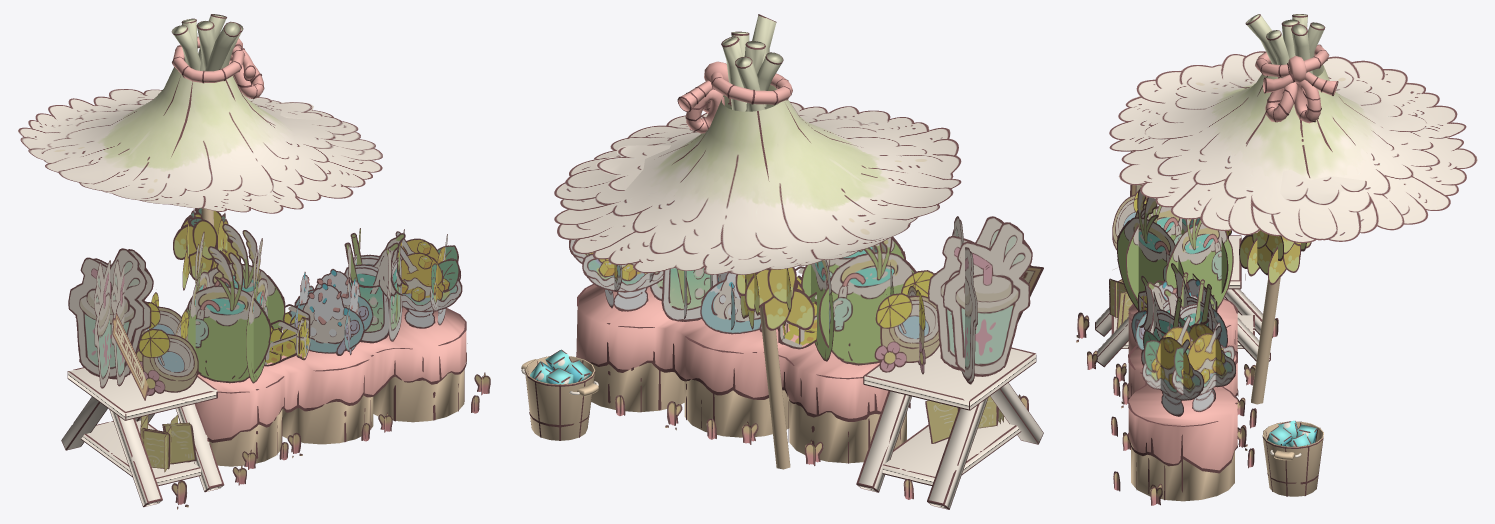
File: Mesh_Home_BH_IcedDrink_SM.fbx
3 views of the same model, side by side, from view 1: azimuth 30°, elevation 25°; view 2: azimuth 150°, elevation 25°; view 3: azimuth 270°, elevation 25° (orthographic). The views are drawn at different scales.
Parts seen in each view (by area): view 1: Mesh_Home_BH_IcedDrink_P, Mesh_Home_BH_IcedDrink; view 2: Mesh_Home_BH_IcedDrink_P, Mesh_Home_BH_IcedDrink; view 3: Mesh_Home_BH_IcedDrink_P, Mesh_Home_BH_IcedDrink.
Boxes of the visible parts, left/top/right/bottom form: Mesh_Home_BH_IcedDrink_P: left=18, top=67, right=490, bottom=509; Mesh_Home_BH_IcedDrink: left=61, top=14, right=467, bottom=507; Mesh_Home_BH_IcedDrink_P: left=554, top=85, right=1043, bottom=499; Mesh_Home_BH_IcedDrink: left=521, top=14, right=1043, bottom=509; Mesh_Home_BH_IcedDrink_P: left=1076, top=51, right=1477, bottom=505; Mesh_Home_BH_IcedDrink: left=1095, top=14, right=1338, bottom=501.
Size of the model in its own units: 268 by 253 by 234.
1 material, 1 textured.
